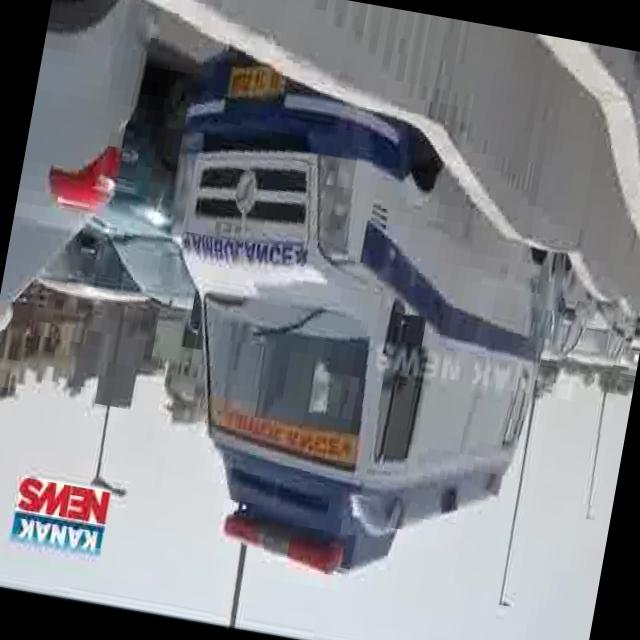ambulance: (111, 47, 591, 615)
